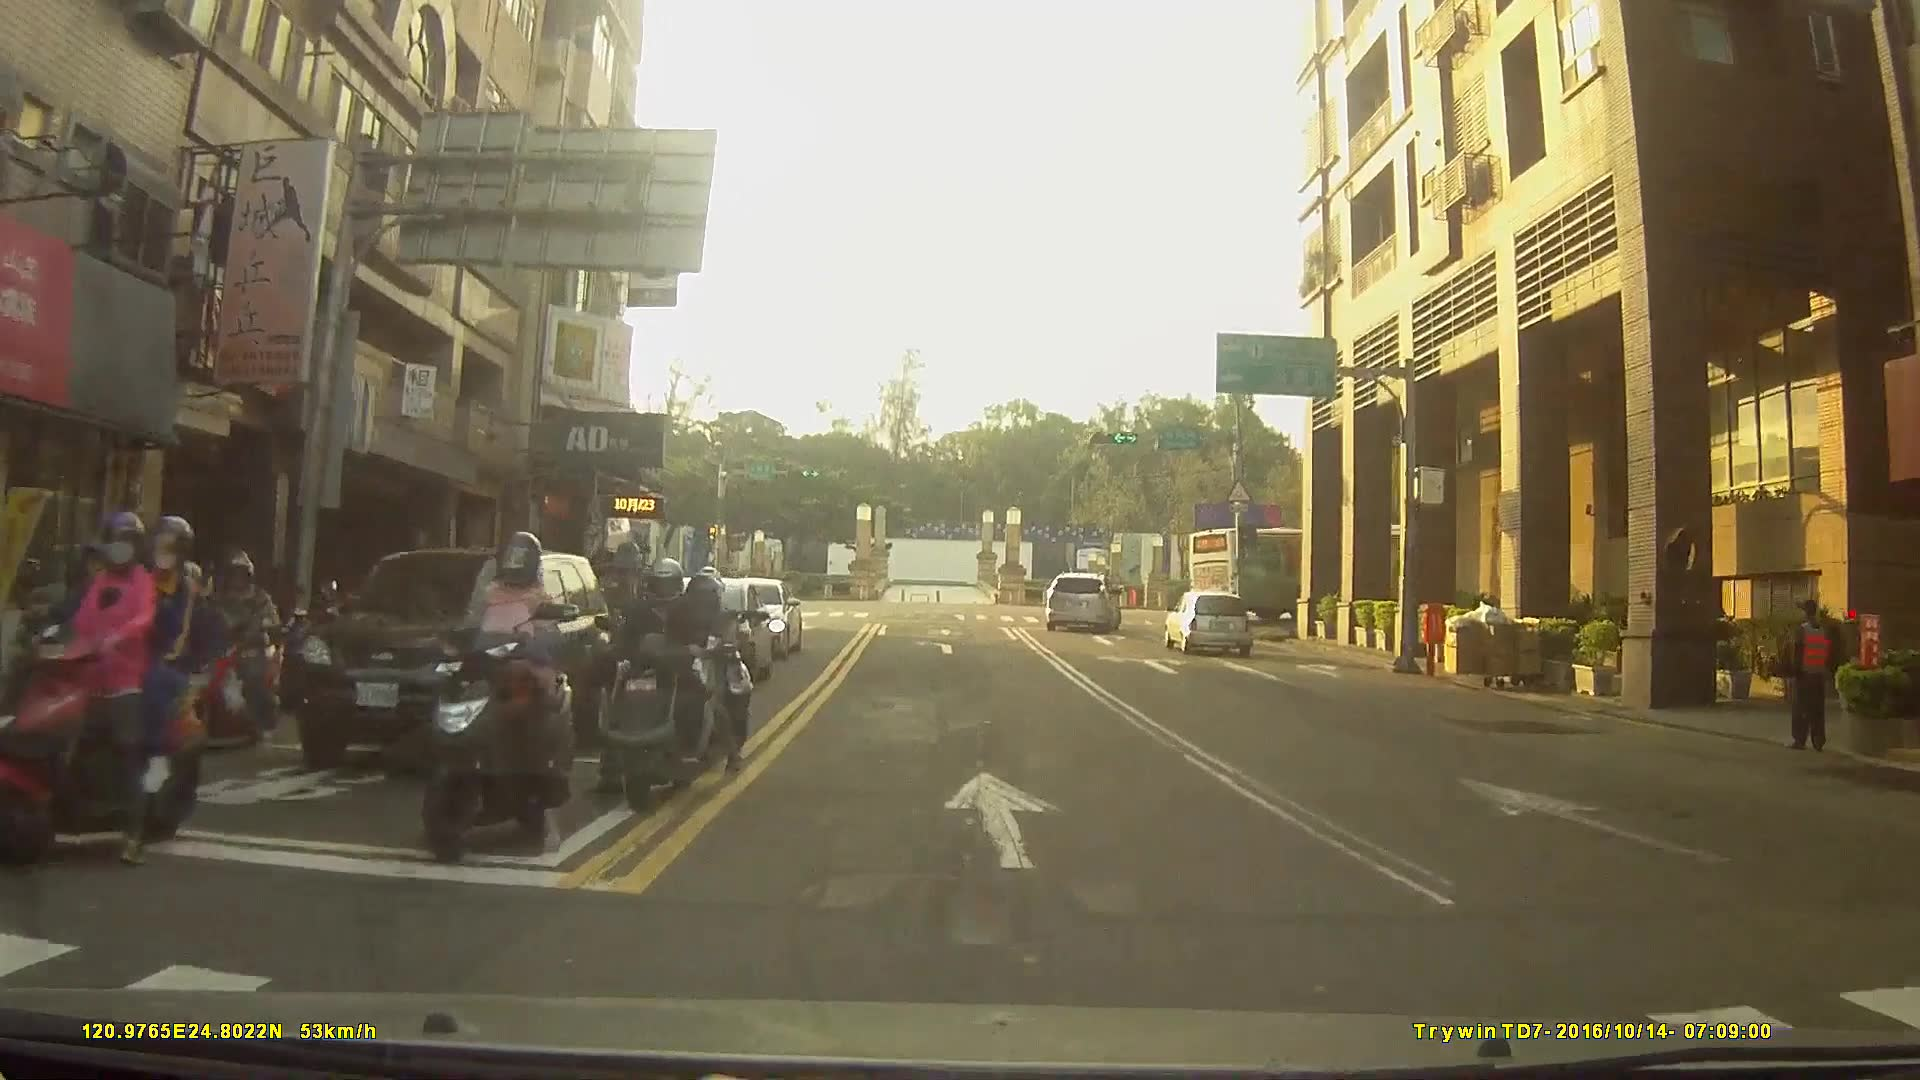pedestrian: (1783, 600, 1838, 763)
rider: (10, 509, 223, 872), (408, 533, 582, 862), (593, 559, 714, 814), (177, 554, 288, 764)
vehicle: (288, 549, 614, 766), (1190, 525, 1453, 618), (1161, 587, 1254, 653), (1043, 571, 1121, 631)
